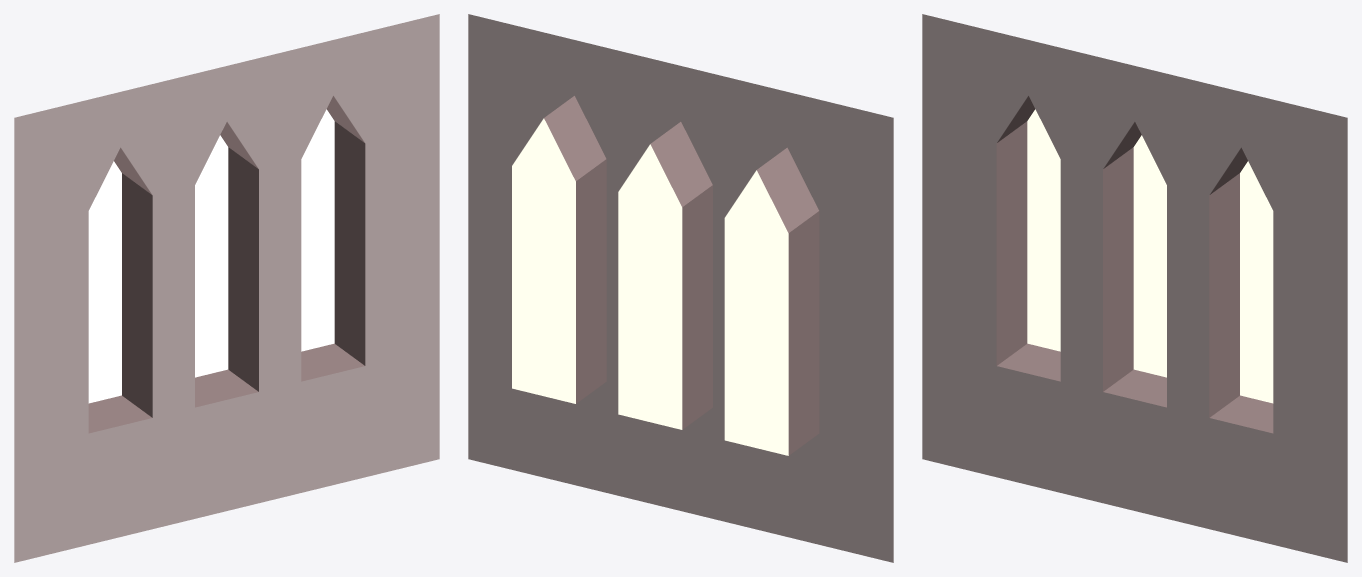
File: castle_window_01.fbx
The picture shows the model from 3 angles, left to right: view 1: azimuth 30°, elevation 25°; view 2: azimuth 150°, elevation 25°; view 3: azimuth 330°, elevation 25°; orthographic projection.
Parts seen in each view (by area): view 1: castle_window_01; view 2: castle_window_01; view 3: castle_window_01.
Part boxes in pixels (bbox=[...]): castle_window_01: bbox=[14, 14, 439, 562]; castle_window_01: bbox=[468, 14, 893, 562]; castle_window_01: bbox=[922, 14, 1347, 562].
Size of the model in its own units: 8 by 8 by 1.
